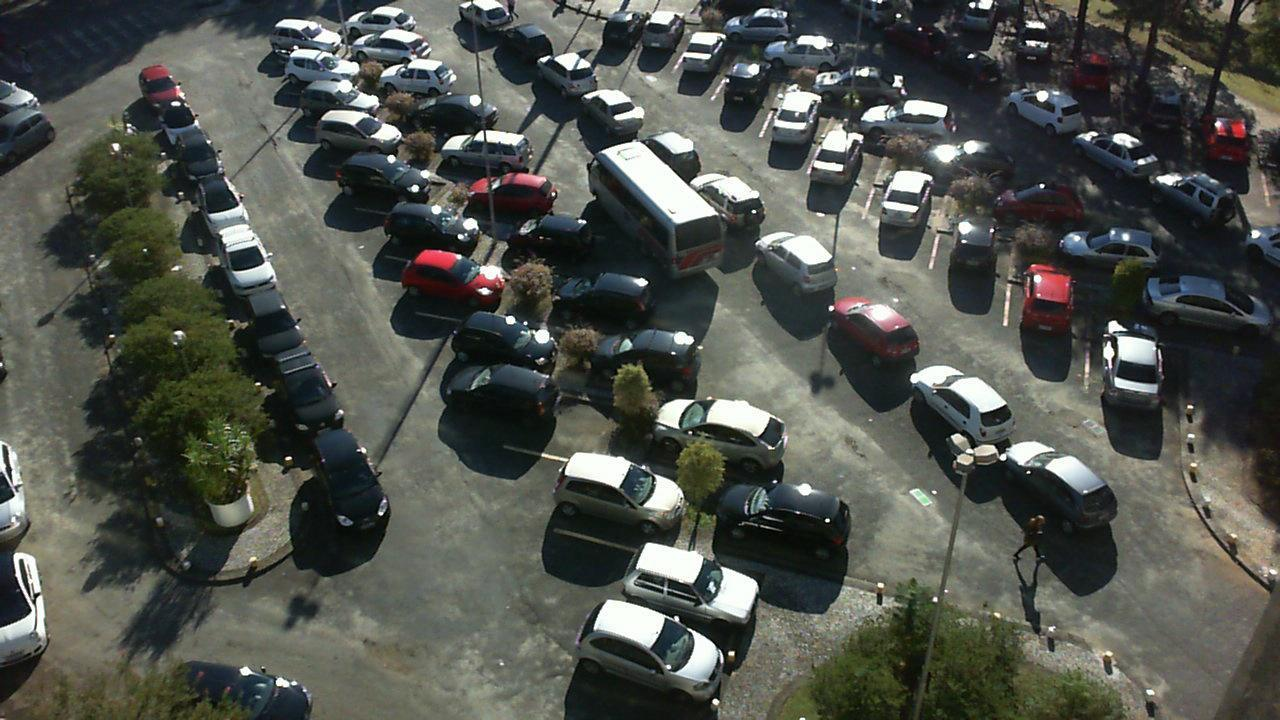occupied: (608, 526, 775, 654), (542, 439, 695, 539), (634, 397, 776, 485), (730, 478, 865, 570), (491, 366, 626, 456), (446, 304, 573, 386), (603, 324, 724, 402), (543, 264, 673, 334), (1139, 292, 1260, 362), (1083, 341, 1181, 421), (508, 216, 630, 277), (408, 252, 524, 316), (384, 198, 497, 263), (1065, 231, 1169, 296), (473, 167, 589, 225), (935, 223, 1013, 307), (1005, 271, 1085, 351), (992, 185, 1105, 240), (404, 88, 515, 143), (343, 156, 450, 211), (863, 183, 946, 253), (801, 137, 884, 205), (316, 113, 413, 169), (927, 140, 1028, 191), (629, 10, 703, 77), (760, 104, 832, 172), (445, 132, 544, 181), (819, 68, 916, 116), (670, 45, 745, 106), (709, 71, 784, 130), (301, 84, 393, 130), (1123, 84, 1182, 153), (867, 105, 955, 150), (278, 51, 364, 97), (349, 35, 438, 76), (732, 12, 821, 53), (383, 65, 472, 105), (1001, 22, 1065, 77), (1057, 56, 1118, 113), (778, 43, 857, 84)
